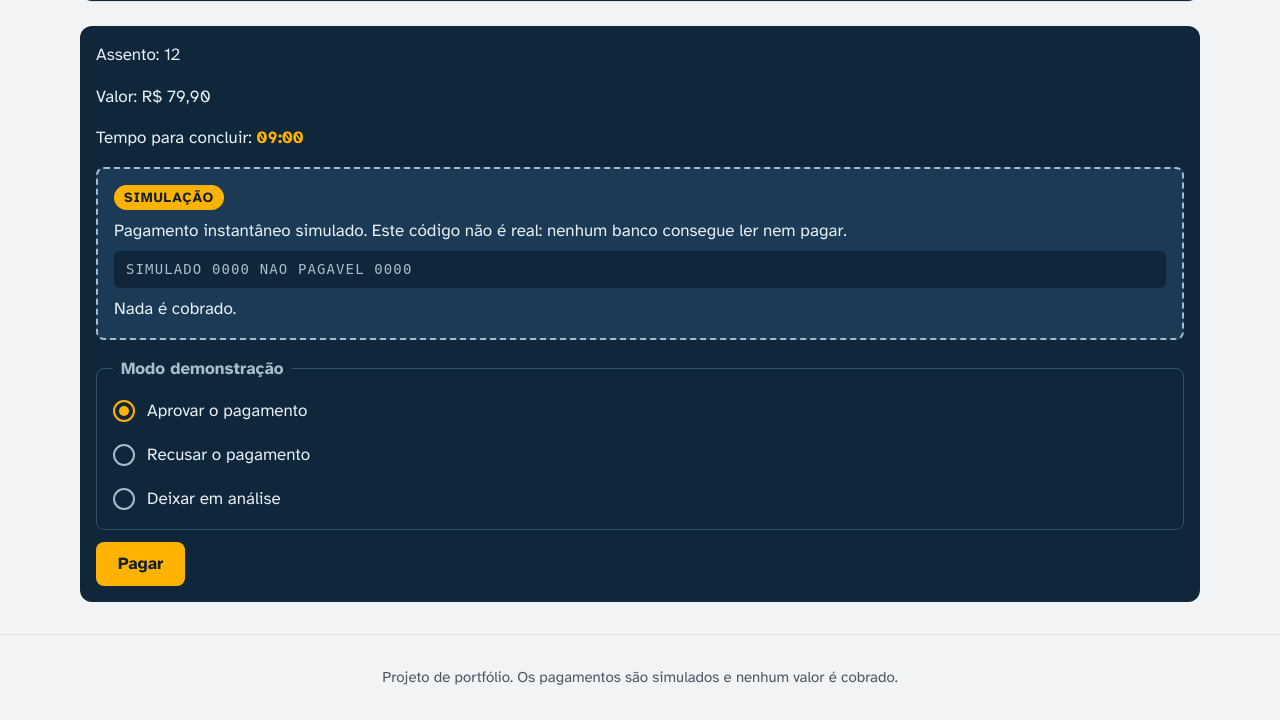
Test: PaymentPage: resultado do pagamento › recusado: avisa, mantém a reserva e deixa tentar de novo
(page scrolled)
Click the button "Pagar".
click(141, 564)  # box top-left (96, 542), bottom-right (186, 586)
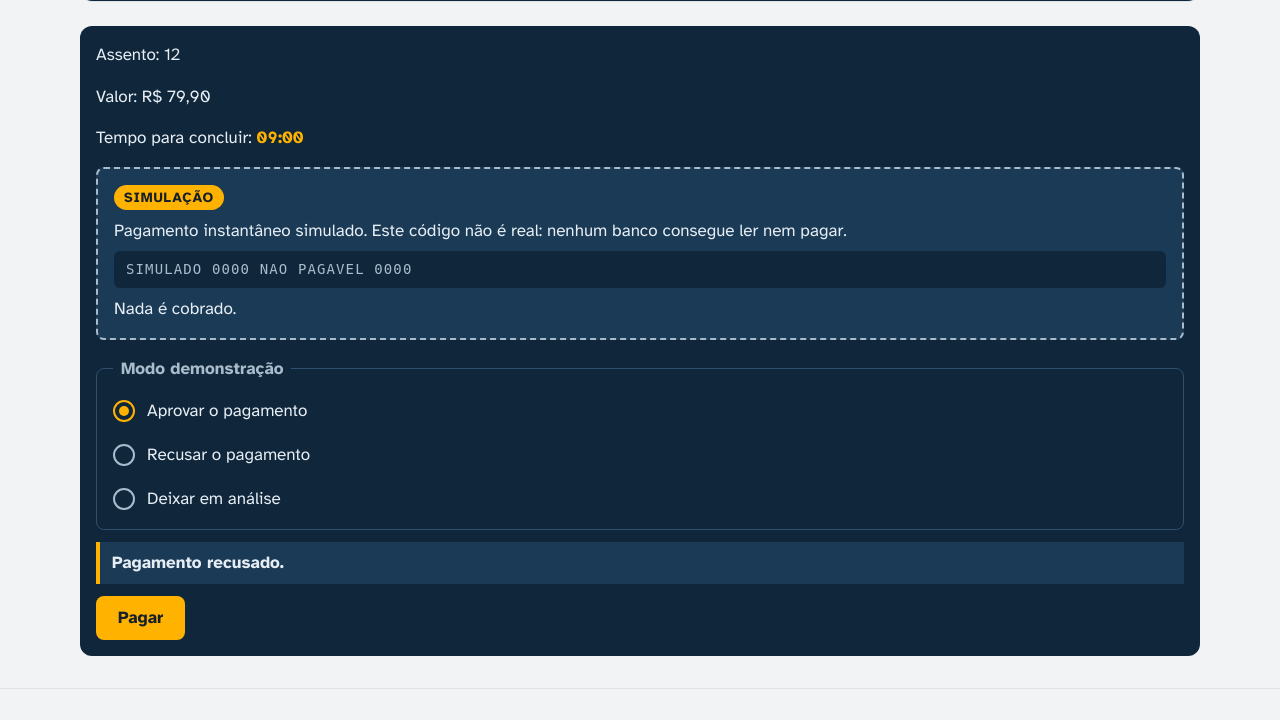
Expected: the button "Pagar" is enabled, top-left (96, 596), bottom-right (186, 640)
Expected: the message reads "Pagamento recusado.", top-left (112, 552), bottom-right (284, 573)
